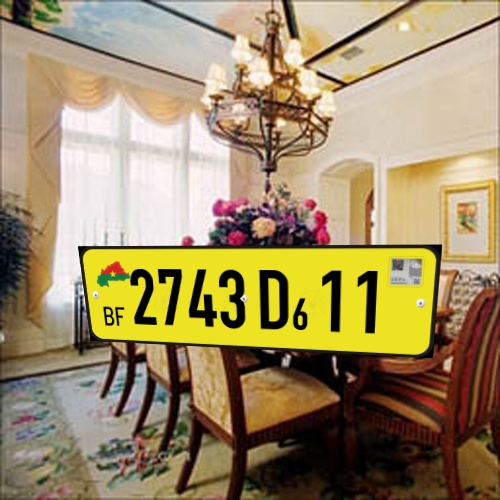plate: (65, 233, 451, 367)
